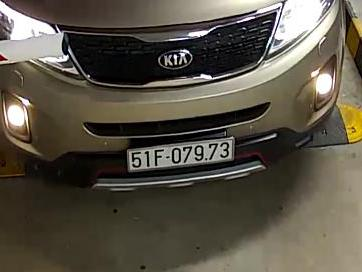car: (126, 137, 236, 173)
